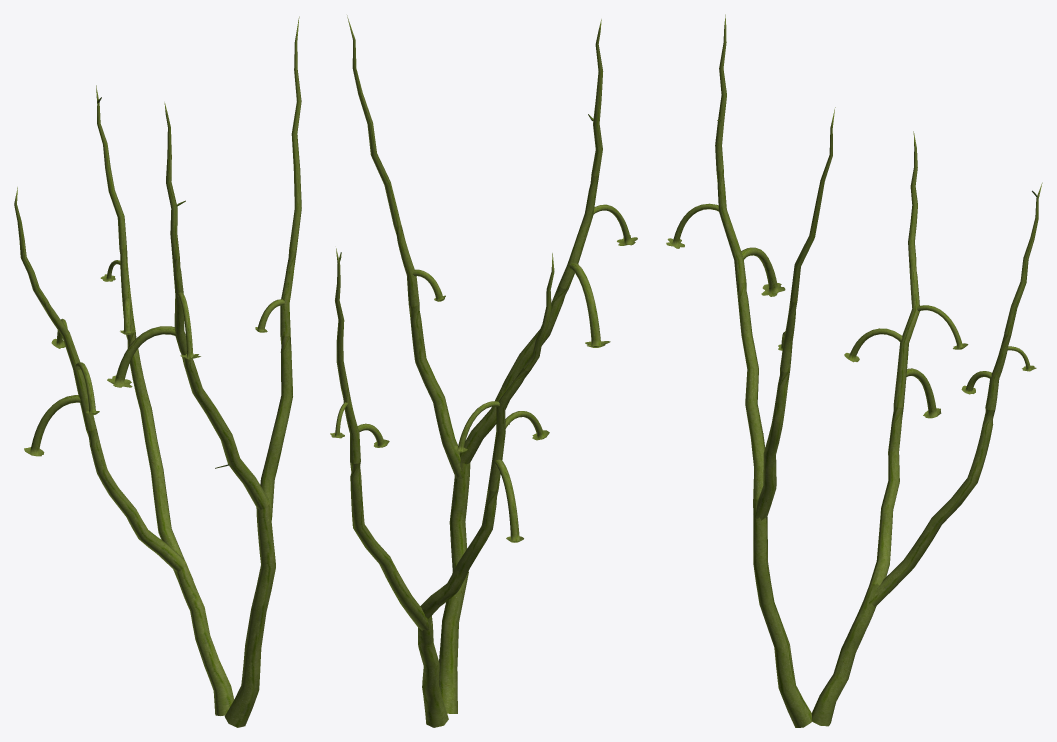
Rendered from VG07_7_stem.dae.
The picture shows the model from 3 angles, left to right: view 1: azimuth 30°, elevation 25°; view 2: azimuth 150°, elevation 25°; view 3: azimuth 270°, elevation 25°; orthographic projection. The views are drawn at different scales.
Parts seen in each view (by area): view 1: VG07_019; view 2: VG07_019; view 3: VG07_019.
Boxes of the visible parts, <box> form: VG07_019: <box>14,16,301,727</box>; VG07_019: <box>330,15,637,727</box>; VG07_019: <box>666,14,1042,727</box>.
Size of the model in its own units: 10.12 by 13.98 by 26.98.
